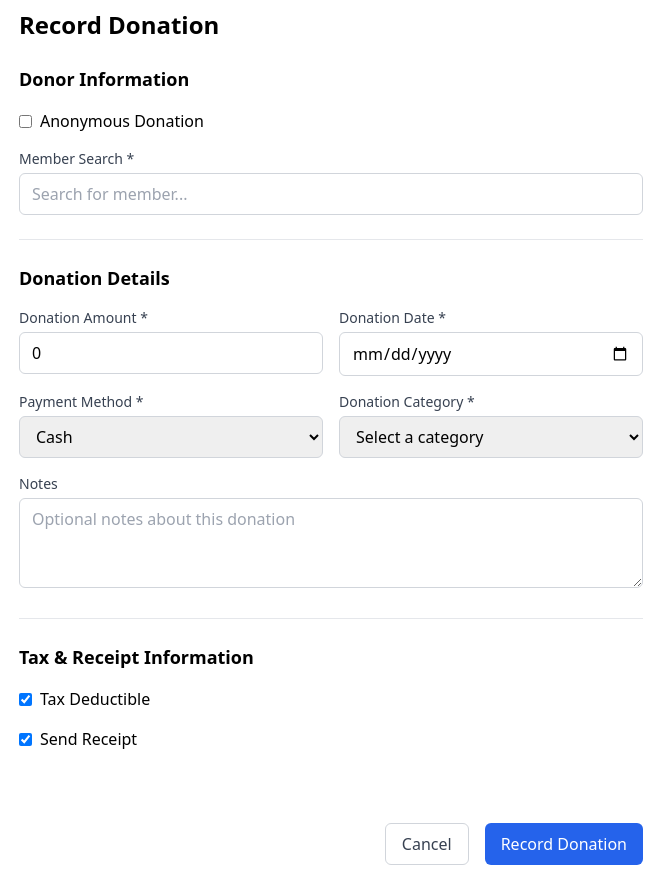
Scenario: DonationForm › Form Fields › should hide member search when anonymous donation is selected
Expected: the field labelled "Member Search *" is shown, [19,173,643,215]
Click the checkbox labelled "Anonymous Donation" at (26, 121), box [19,114,32,128]
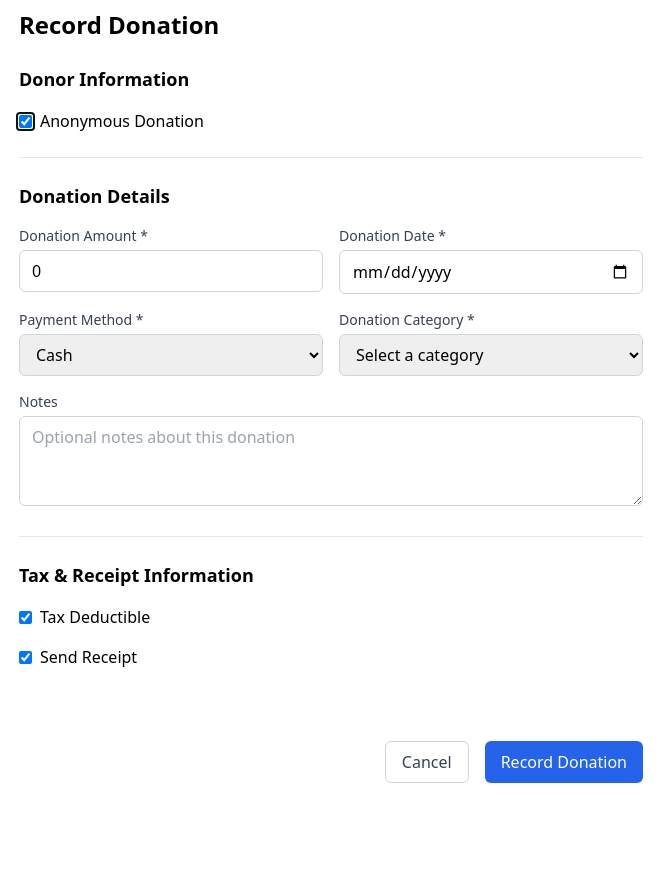
Result: the label labelled "Member Search" is gone
